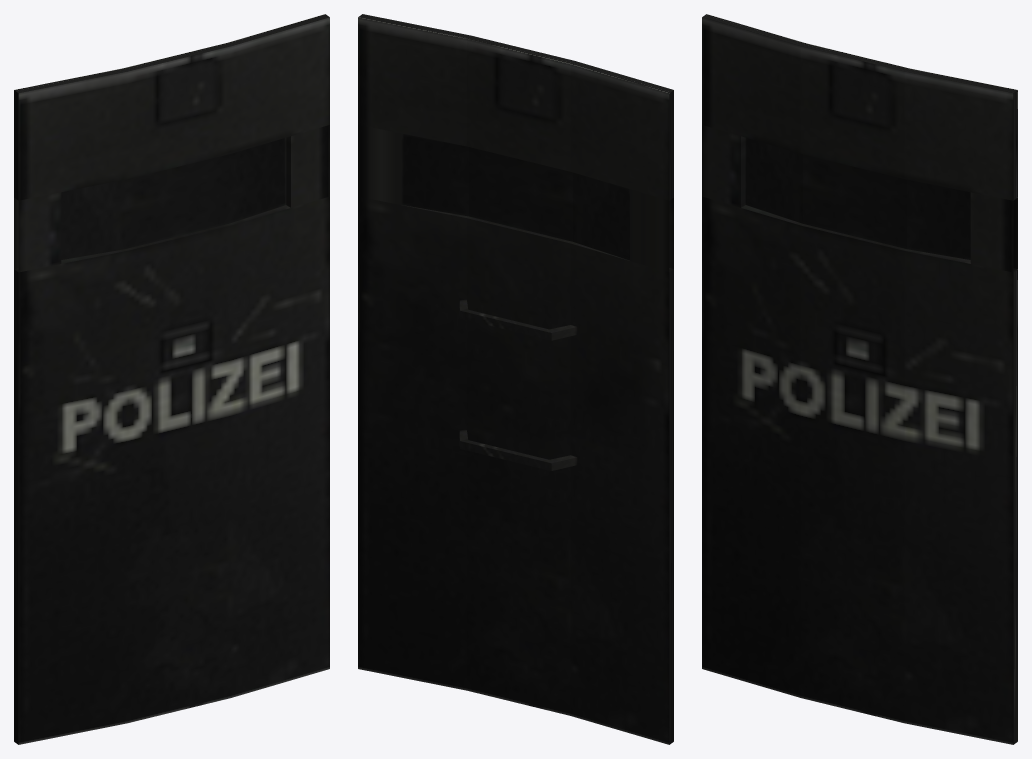
Rendered from RiotShield01.obj.
3 views of the same model, side by side, from view 1: azimuth 30°, elevation 25°; view 2: azimuth 150°, elevation 25°; view 3: azimuth 330°, elevation 25° (orthographic).
Visible parts, largest first — view 1: RiotShield01; view 2: RiotShield01; view 3: RiotShield01.
Part boxes in pixels (bbox=[...]): RiotShield01: bbox=[14, 14, 329, 744]; RiotShield01: bbox=[358, 14, 673, 744]; RiotShield01: bbox=[702, 14, 1017, 744].
Bounding box in the file's own units: 0.9375 × 1.88 × 0.0914.
